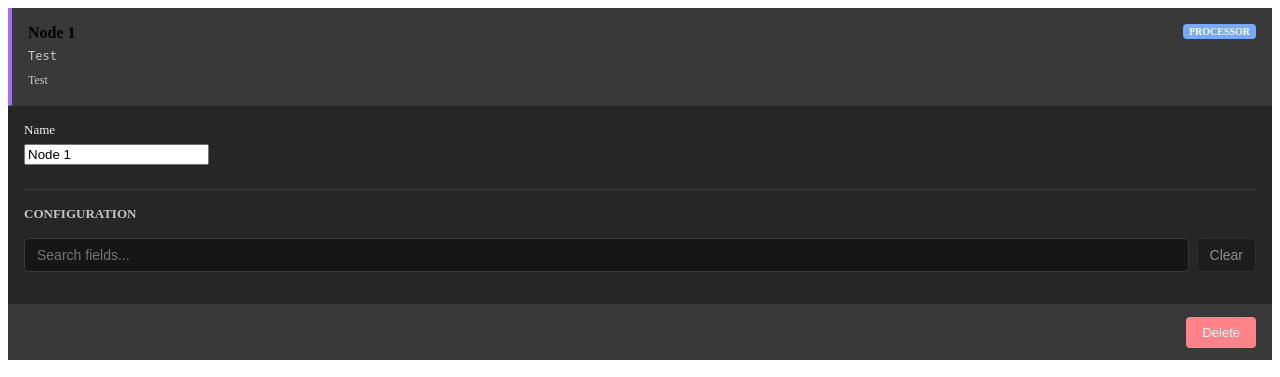
PropertiesPanel Attack Tests › Effect Cleanup Attacks › handles delete modal cancellation properly
Click the button with class "btn-danger" at (1221, 332), box left=1186, top=317, right=1256, bottom=348
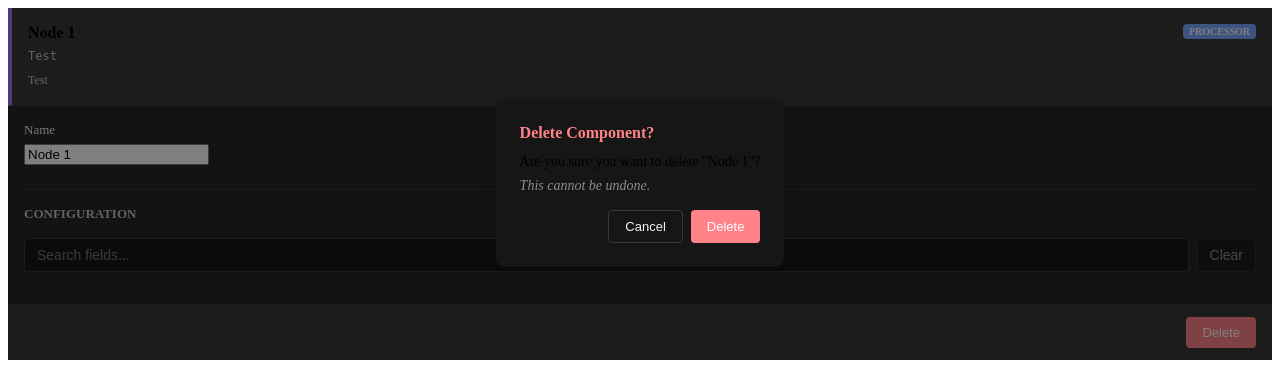
Expected: the element with test id "delete-confirm" is shown
Click the button "Cancel" at (646, 227), box left=608, top=210, right=683, bottom=243
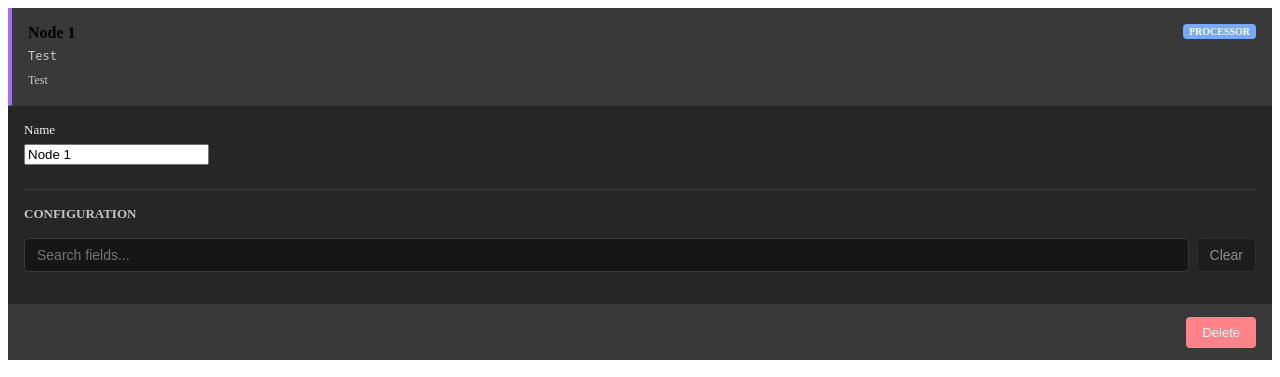
Expected: the element with test id "delete-confirm" is gone
